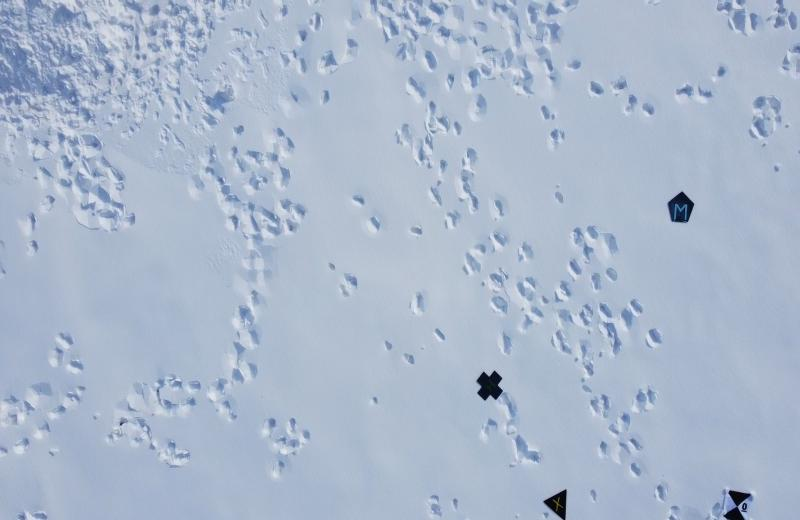Cross: (475, 362, 510, 410)
Pentagon: (662, 186, 704, 232)
Triangle: (536, 477, 577, 520)
